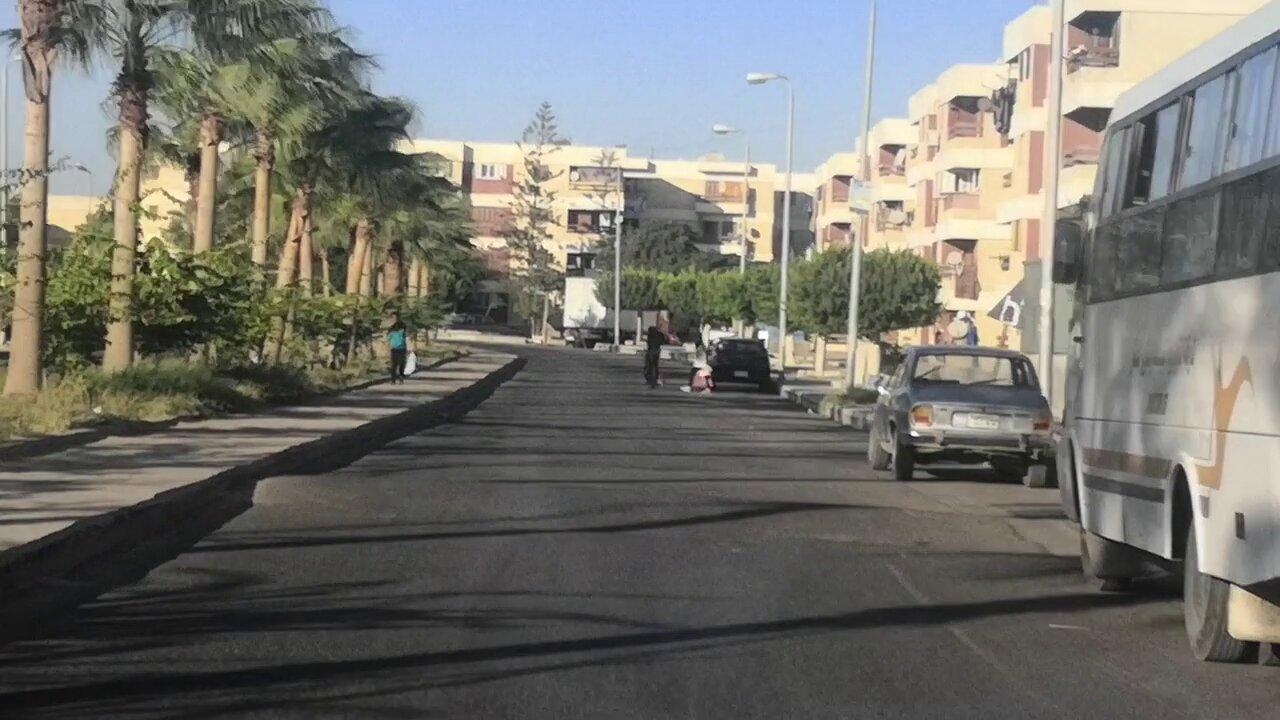Bump: (243, 465, 1046, 554)
